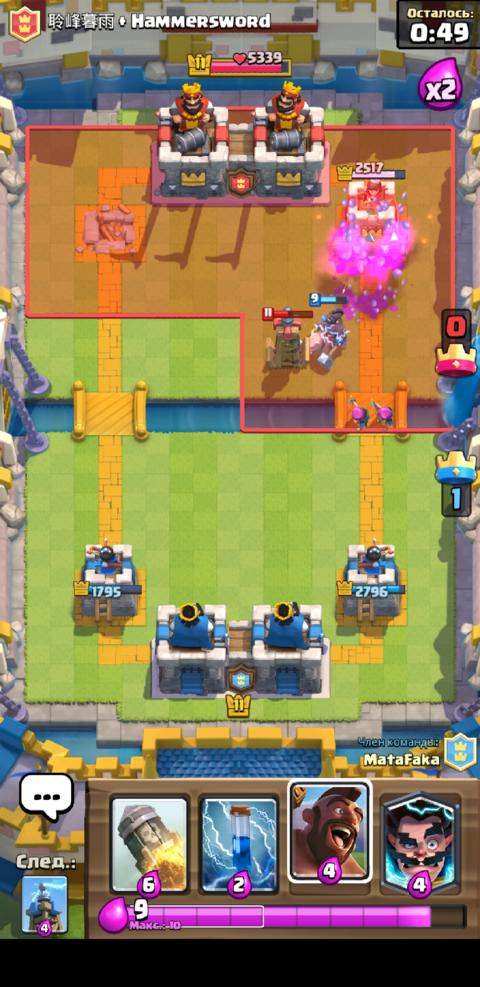ally_archer: (346, 394, 370, 431), (369, 397, 394, 431)
ally_hog_rider: (306, 290, 348, 370)
enemy_tesla: (260, 303, 313, 371)
